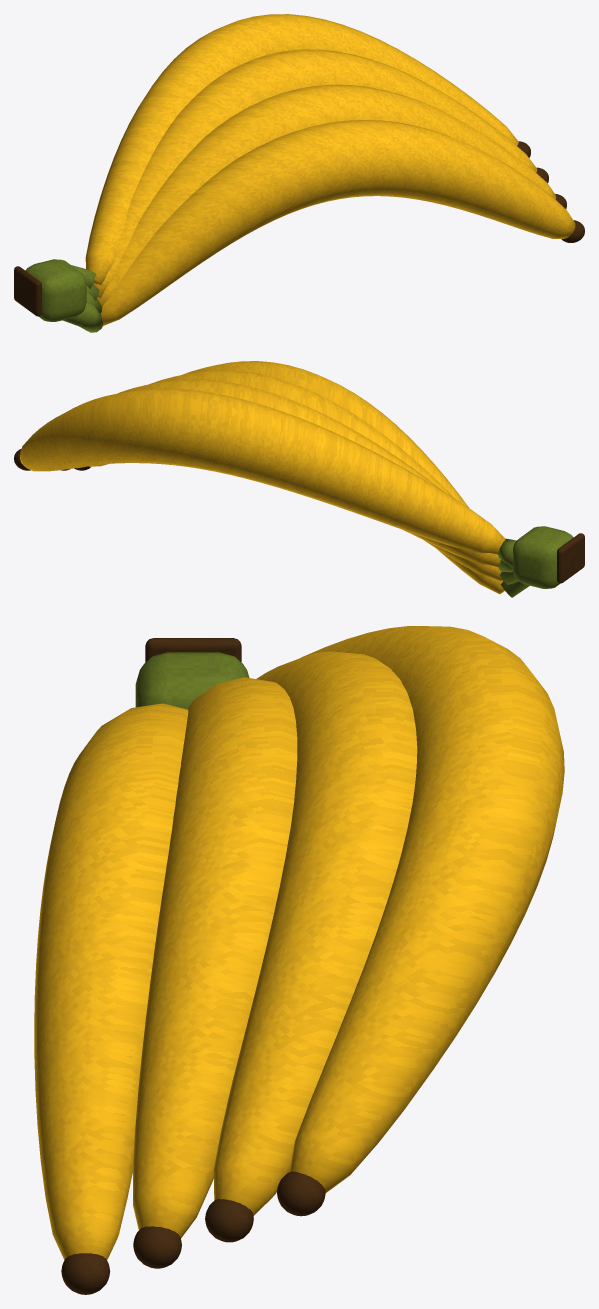
The model's file is bananas.fbx.
The picture shows the model from 3 angles, top to bottom: view 1: azimuth 30°, elevation 25°; view 2: azimuth 150°, elevation 25°; view 3: azimuth 270°, elevation 25°; orthographic projection. The views are drawn at different scales.
Parts seen in each view (by area): view 1: Curved banana finger, Curved banana finger.003, Curved banana finger.001, Curved banana finger.002, Shared crown, Crown cut, Joined green neck; view 2: Curved banana finger.003, Curved banana finger, Curved banana finger.001, Curved banana finger.002, Shared crown, Crown cut, Joined green neck.003; view 3: Curved banana finger.003, Curved banana finger, Curved banana finger.002, Curved banana finger.001, Shared crown, Blossom tip.001, Blossom tip.002, Blossom tip.003, Blossom tip, Crown cut.
Boxes of the visible parts, x1,y1,x2,y2 form: Curved banana finger: [100, 120, 575, 325]; Curved banana finger.003: [85, 14, 518, 284]; Curved banana finger.001: [97, 84, 556, 306]; Curved banana finger.002: [93, 49, 537, 297]; Shared crown: [25, 259, 86, 321]; Crown cut: [14, 266, 41, 316]; Joined green neck: [63, 303, 103, 332]; Curved banana finger.003: [20, 388, 505, 554]; Curved banana finger: [89, 361, 504, 594]; Curved banana finger.001: [77, 370, 501, 580]; Curved banana finger.002: [117, 379, 500, 566]; Shared crown: [512, 526, 573, 588]; Crown cut: [557, 533, 584, 583]; Joined green neck.003: [498, 538, 516, 567]; Curved banana finger.003: [289, 626, 564, 1192]; Curved banana finger: [34, 703, 188, 1259]; Curved banana finger.002: [213, 651, 417, 1215]; Curved banana finger.001: [133, 677, 297, 1238]; Shared crown: [135, 652, 249, 709]; Blossom tip.001: [133, 1226, 181, 1268]; Blossom tip.002: [205, 1199, 253, 1242]; Blossom tip.003: [277, 1171, 325, 1216]; Blossom tip: [61, 1253, 110, 1294]; Crown cut: [145, 638, 241, 662].
Size of the model in its own units: 191 by 69 by 82.46.
Materials: 3 (3 with a texture image).
